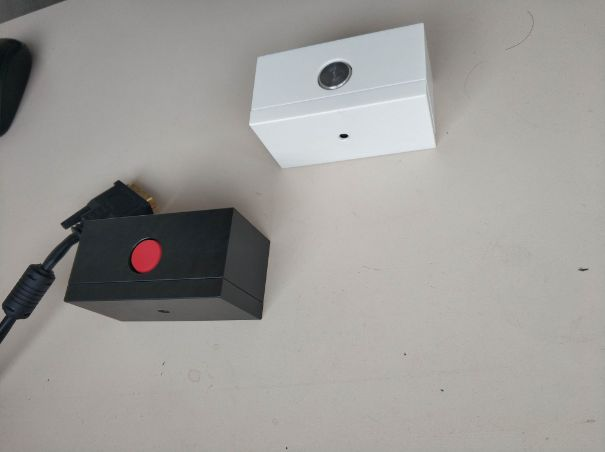black+black+red: (62, 208, 275, 327)
white+white+silver: (244, 20, 444, 172)
